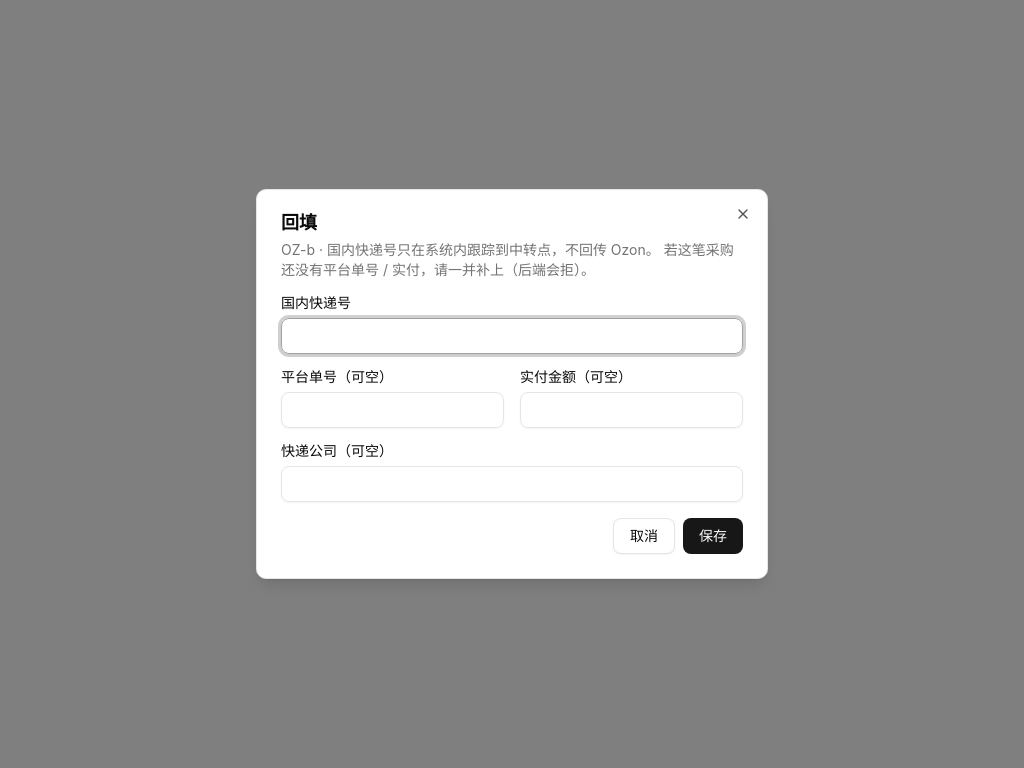
采购任务弹窗 › 回填：快递号格式不对时给行内错误且不发请求
This screenshot has width=1024, height=768.
Type "x" into the field labelled "国内快递号". click: (512, 336)
box: [281, 318, 743, 354]
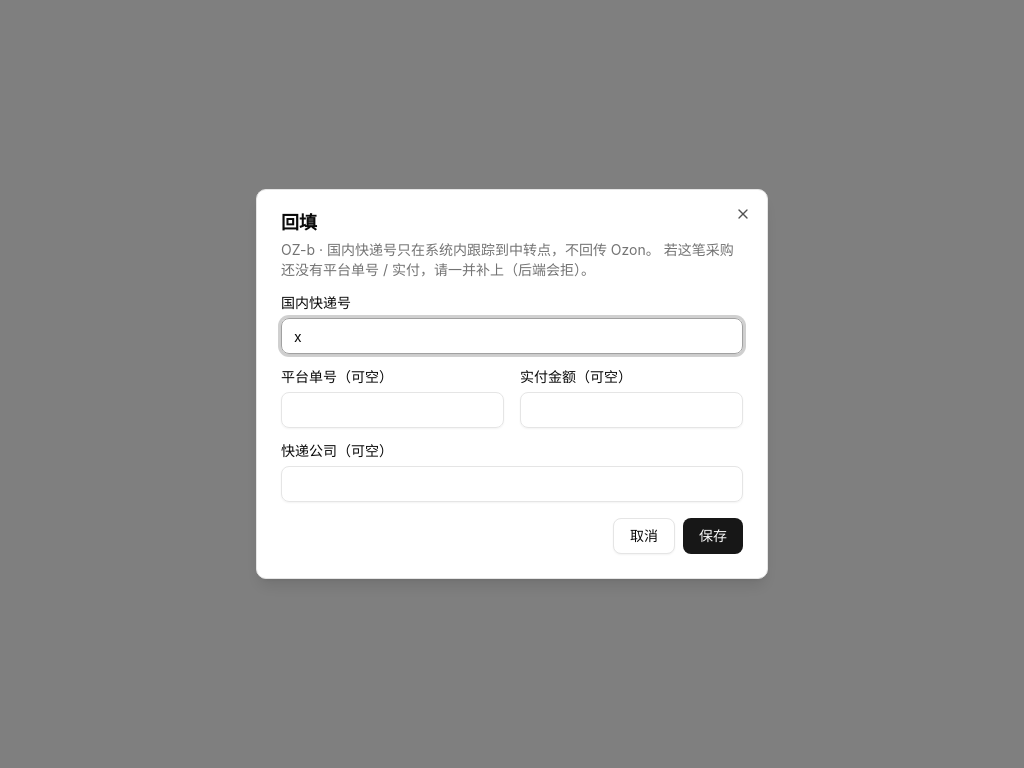
Click the button "保存". click: (713, 536)
box: [683, 518, 743, 554]
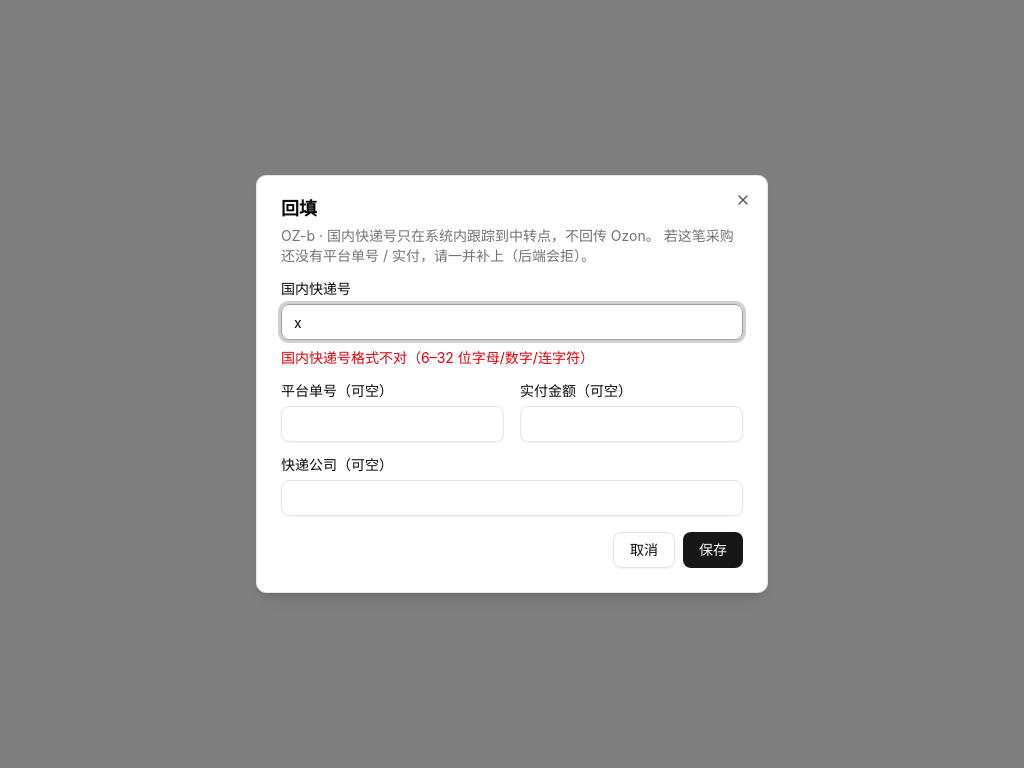
Result: the text "国内快递号格式不对（6–32 位字母/数字/连字符）" is shown at [281, 349, 594, 366]
